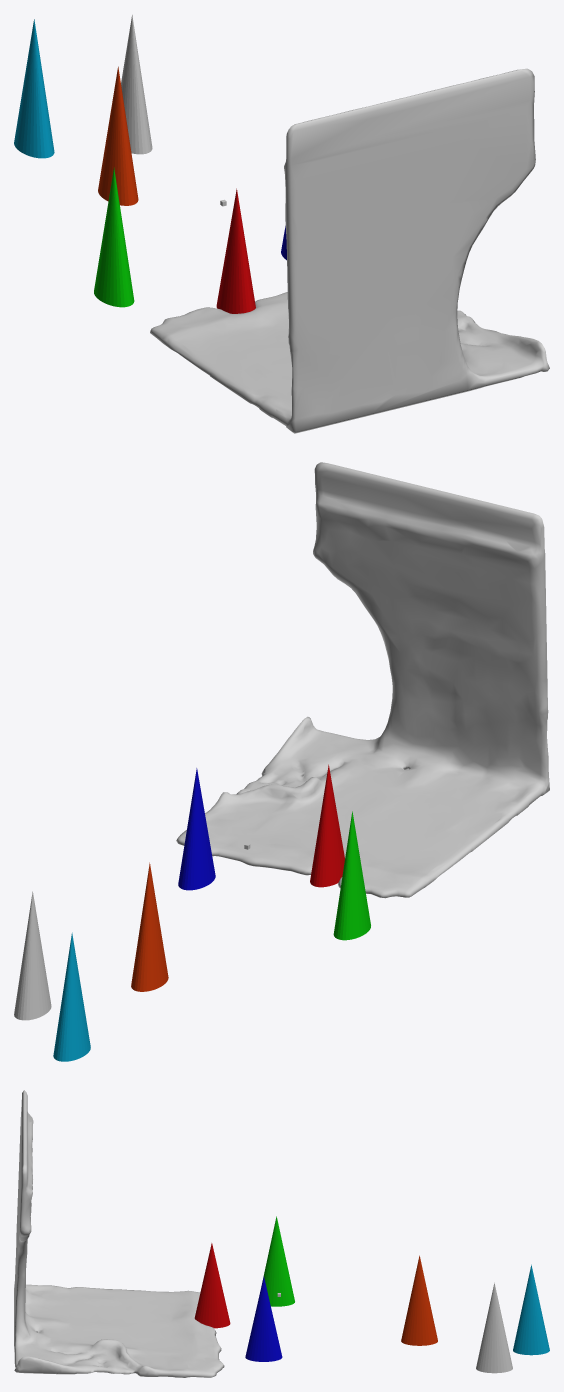
The picture shows the model from 3 angles, top to bottom: view 1: azimuth 30°, elevation 25°; view 2: azimuth 150°, elevation 25°; view 3: azimuth 270°, elevation 25°; orthographic projection. The views are drawn at different scales.
Visible parts, largest first — view 1: Liquid_Domain, 円錐.003, 円錐.005, 円錐.004, 円錐.001, 円錐; view 2: Liquid_Domain, 円錐.005, 円錐.003, 円錐.004, 円錐, 円錐.002, 円錐.001; view 3: Liquid_Domain, 円錐, 円錐.004, 円錐.005, 円錐.002, 円錐.001, 円錐.003.
Part boxes in pixels (x1,y1,x2,y2): Liquid_Domain: [150, 68, 549, 433]; 円錐.003: [94, 167, 134, 307]; 円錐.005: [14, 19, 54, 158]; 円錐.004: [98, 66, 138, 205]; 円錐.001: [216, 188, 255, 313]; 円錐: [121, 15, 152, 154]; Liquid_Domain: [176, 462, 549, 898]; 円錐.005: [53, 932, 90, 1061]; 円錐.003: [333, 811, 370, 940]; 円錐.004: [131, 862, 168, 991]; 円錐: [14, 891, 51, 1020]; 円錐.002: [178, 768, 215, 890]; 円錐.001: [310, 764, 344, 887]; Liquid_Domain: [14, 1090, 224, 1377]; 円錐: [476, 1282, 512, 1373]; 円錐.004: [401, 1255, 437, 1345]; 円錐.005: [513, 1264, 549, 1355]; 円錐.002: [245, 1276, 282, 1361]; 円錐.001: [194, 1243, 230, 1328]; 円錐.003: [262, 1216, 294, 1306].
Size of the model in its own units: 129 by 158 by 347.
